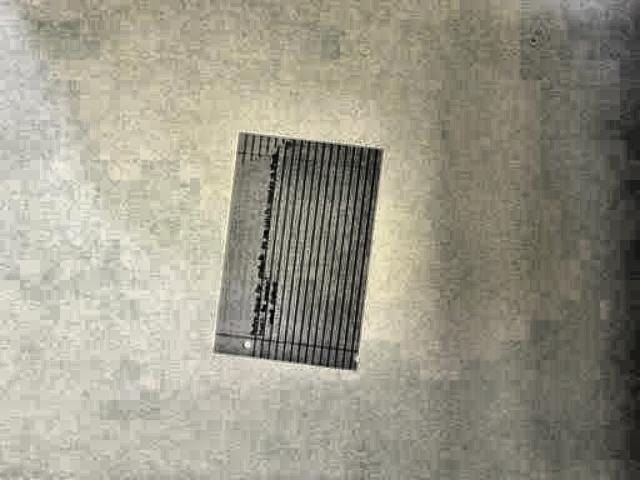Paper: (213, 130, 382, 379)
